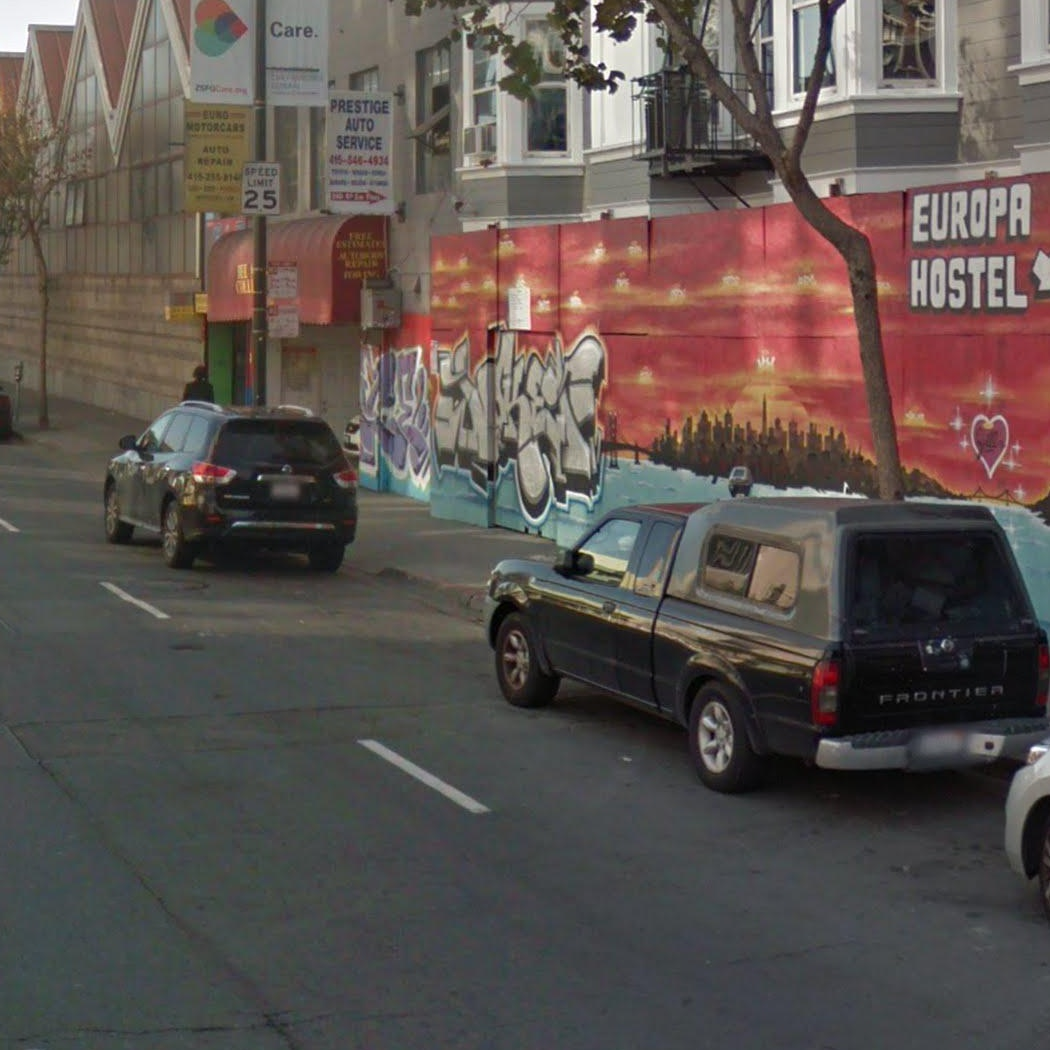No Parking: (268, 304, 300, 340)
